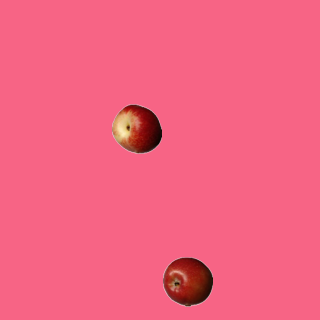Apple Braeburn: (162, 256, 212, 306)
Nectarine: (111, 103, 161, 153)
